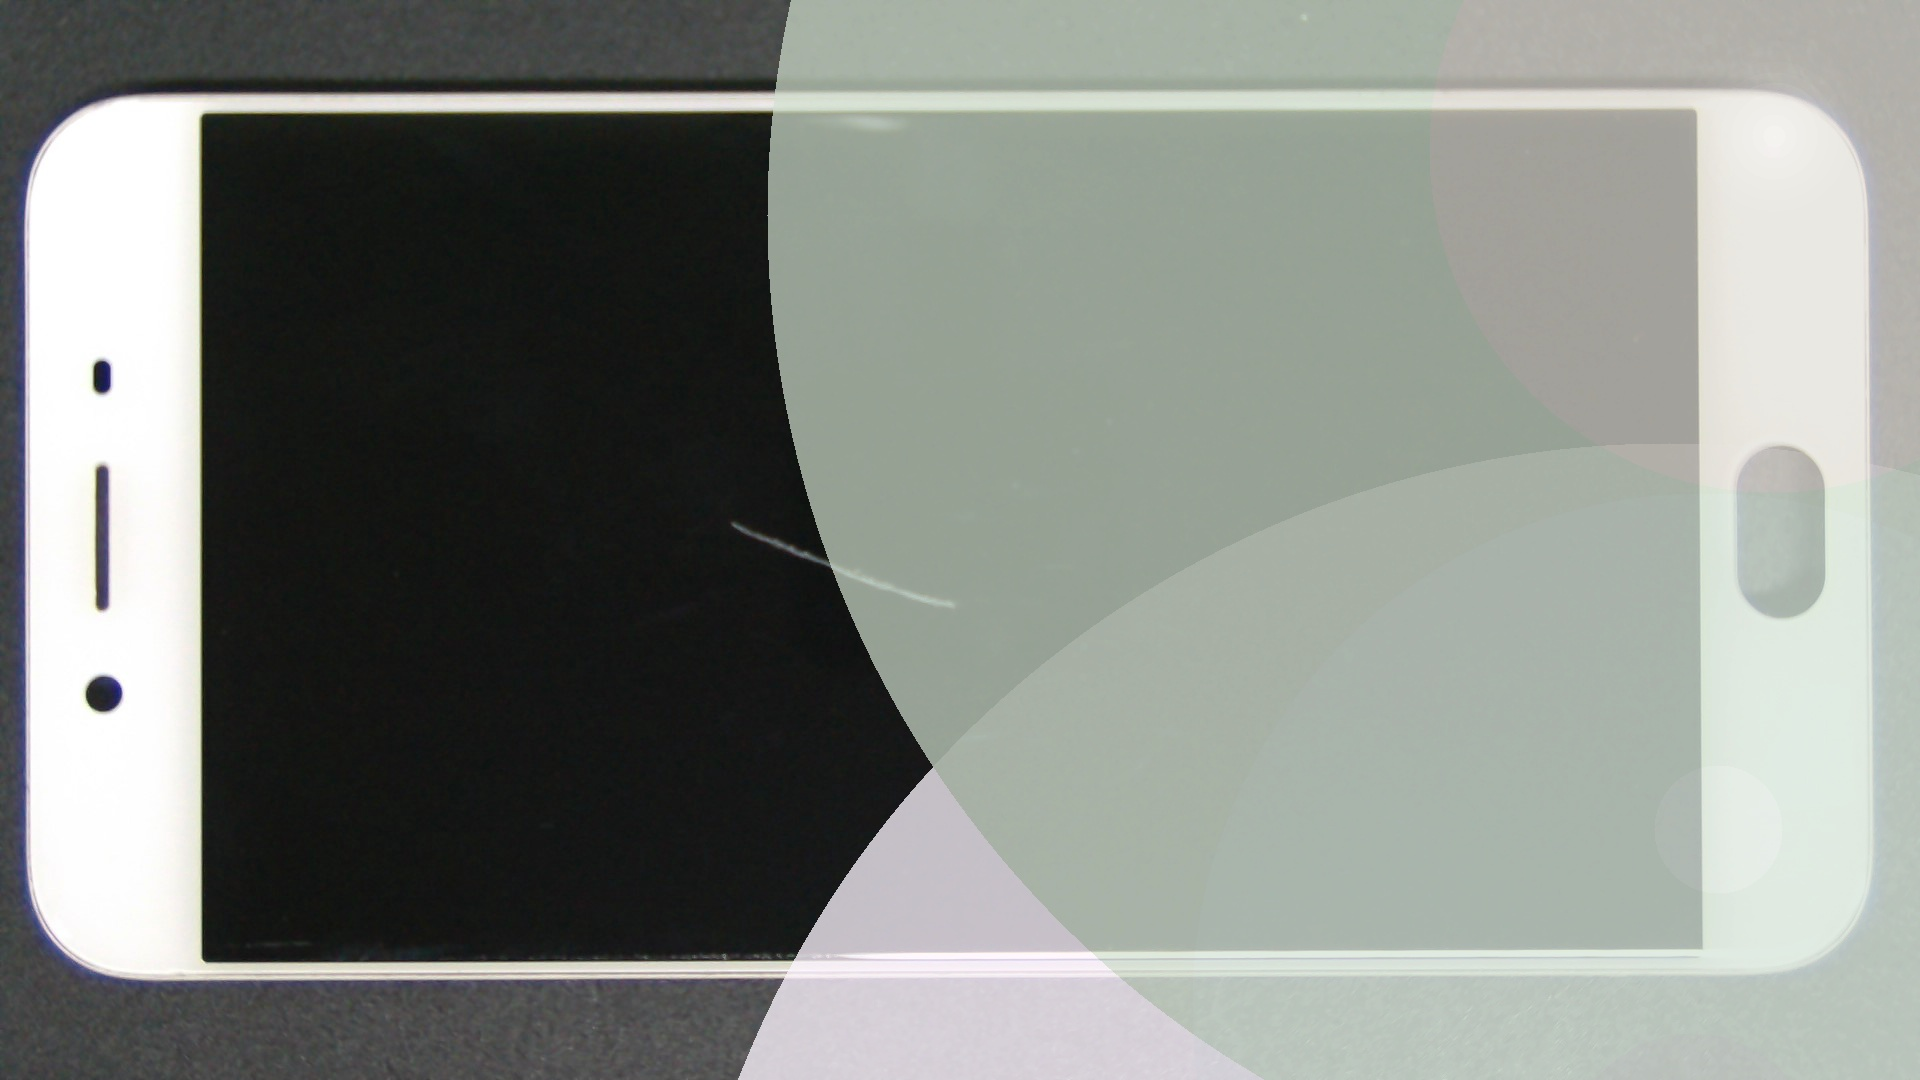oil: (368, 260, 1104, 782)
